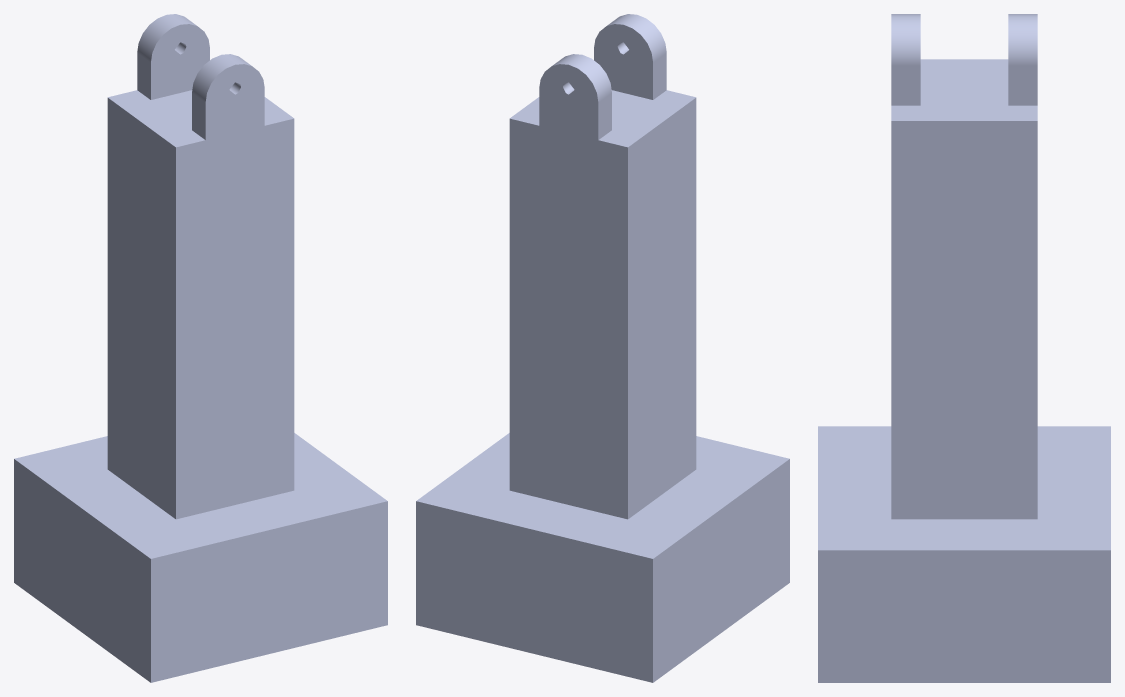
File: beam_base2.obj
The picture shows the model from 3 angles, left to right: view 1: azimuth 30°, elevation 25°; view 2: azimuth 150°, elevation 25°; view 3: azimuth 270°, elevation 25°; orthographic projection. The views are drawn at different scales.
Parts seen in each view (by area): view 1: mesh 1 beam_base2; view 2: mesh 1 beam_base2; view 3: mesh 1 beam_base2.
Part boxes in pixels (<box>): mesh 1 beam_base2: <box>14,14,387,682</box>; mesh 1 beam_base2: <box>416,14,789,682</box>; mesh 1 beam_base2: <box>818,14,1110,682</box>.
Bounding box in the file's own units: 0.02 × 0.0455 × 0.02.
